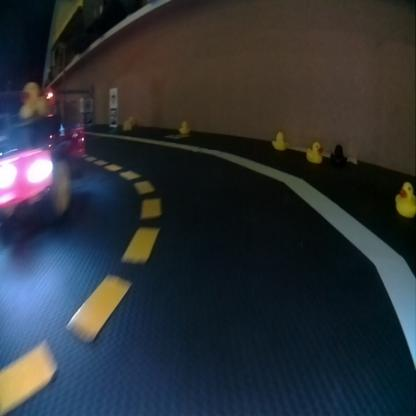Duckie: (20, 85, 46, 115), (395, 181, 415, 217), (306, 141, 322, 163), (272, 132, 286, 150), (121, 120, 130, 131), (179, 120, 188, 130)
Duckiebot: (0, 118, 71, 217)
Intersection sign: (109, 87, 117, 105)
QR code: (109, 109, 115, 127), (165, 134, 182, 140), (84, 113, 92, 123)
Traffic light: (46, 89, 53, 100)
